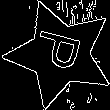P_E: (30, 30, 90, 79)
